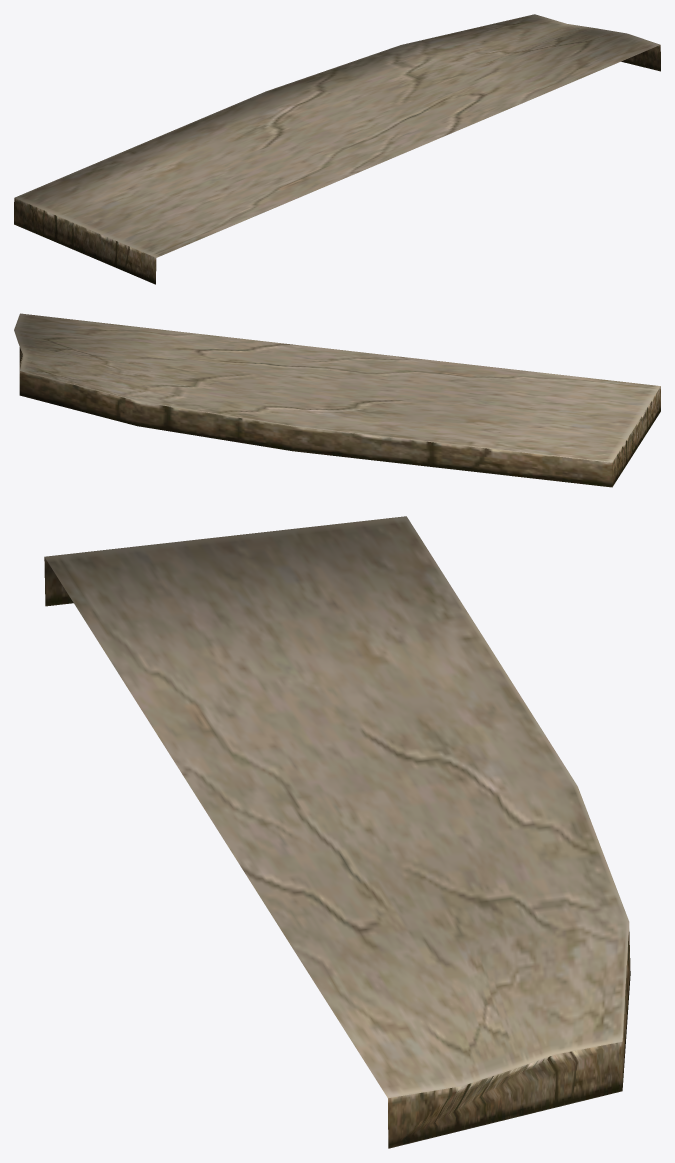
The model's file is HTOWN01_BAGROW1PORCH.fbx.
The picture shows the model from 3 angles, top to bottom: view 1: azimuth 30°, elevation 25°; view 2: azimuth 150°, elevation 25°; view 3: azimuth 270°, elevation 25°; orthographic projection. The views are drawn at different scales.
Visible parts, largest first — view 1: HTOWN01_BAGROW1PORCH; view 2: HTOWN01_BAGROW1PORCH; view 3: HTOWN01_BAGROW1PORCH.
Part boxes in pixels (x1,y1,x2,y2): HTOWN01_BAGROW1PORCH: (14,14,660,284); HTOWN01_BAGROW1PORCH: (14,313,660,487); HTOWN01_BAGROW1PORCH: (44,516,630,1148).
Bounding box in the file's own units: 78594 × 3156 × 33396.
2 materials, 2 textured.
